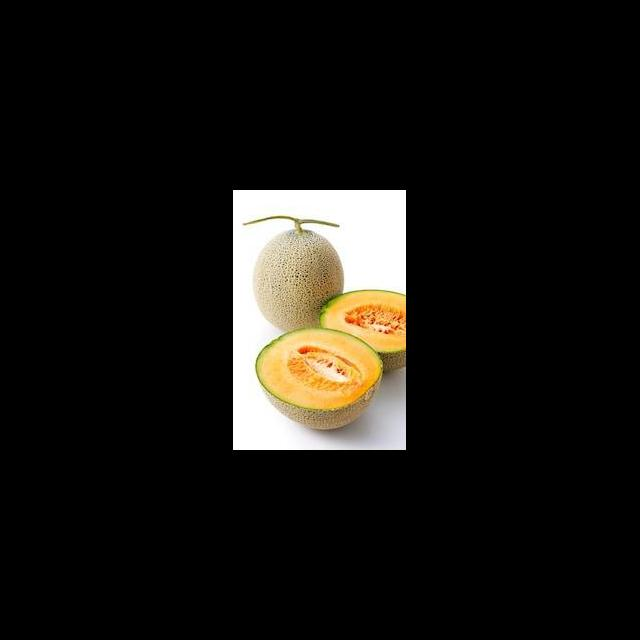Hami Melon: (255, 327, 384, 431), (243, 214, 346, 330), (321, 289, 407, 372)
